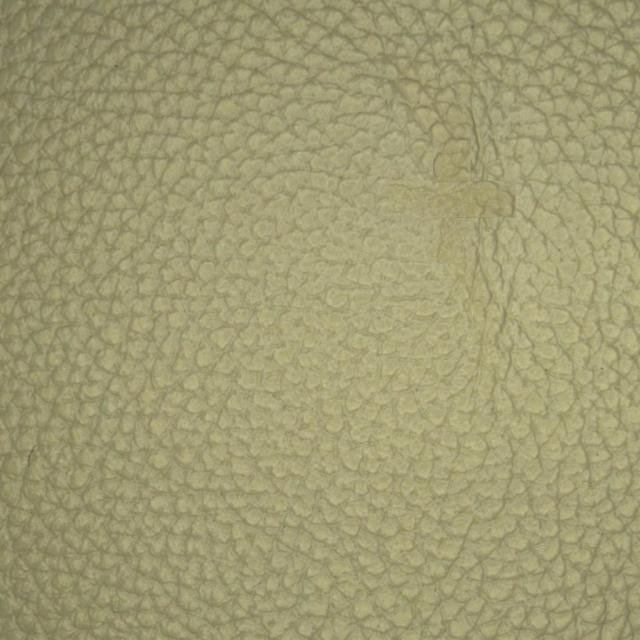Healed Injury: (357, 84, 586, 308)
